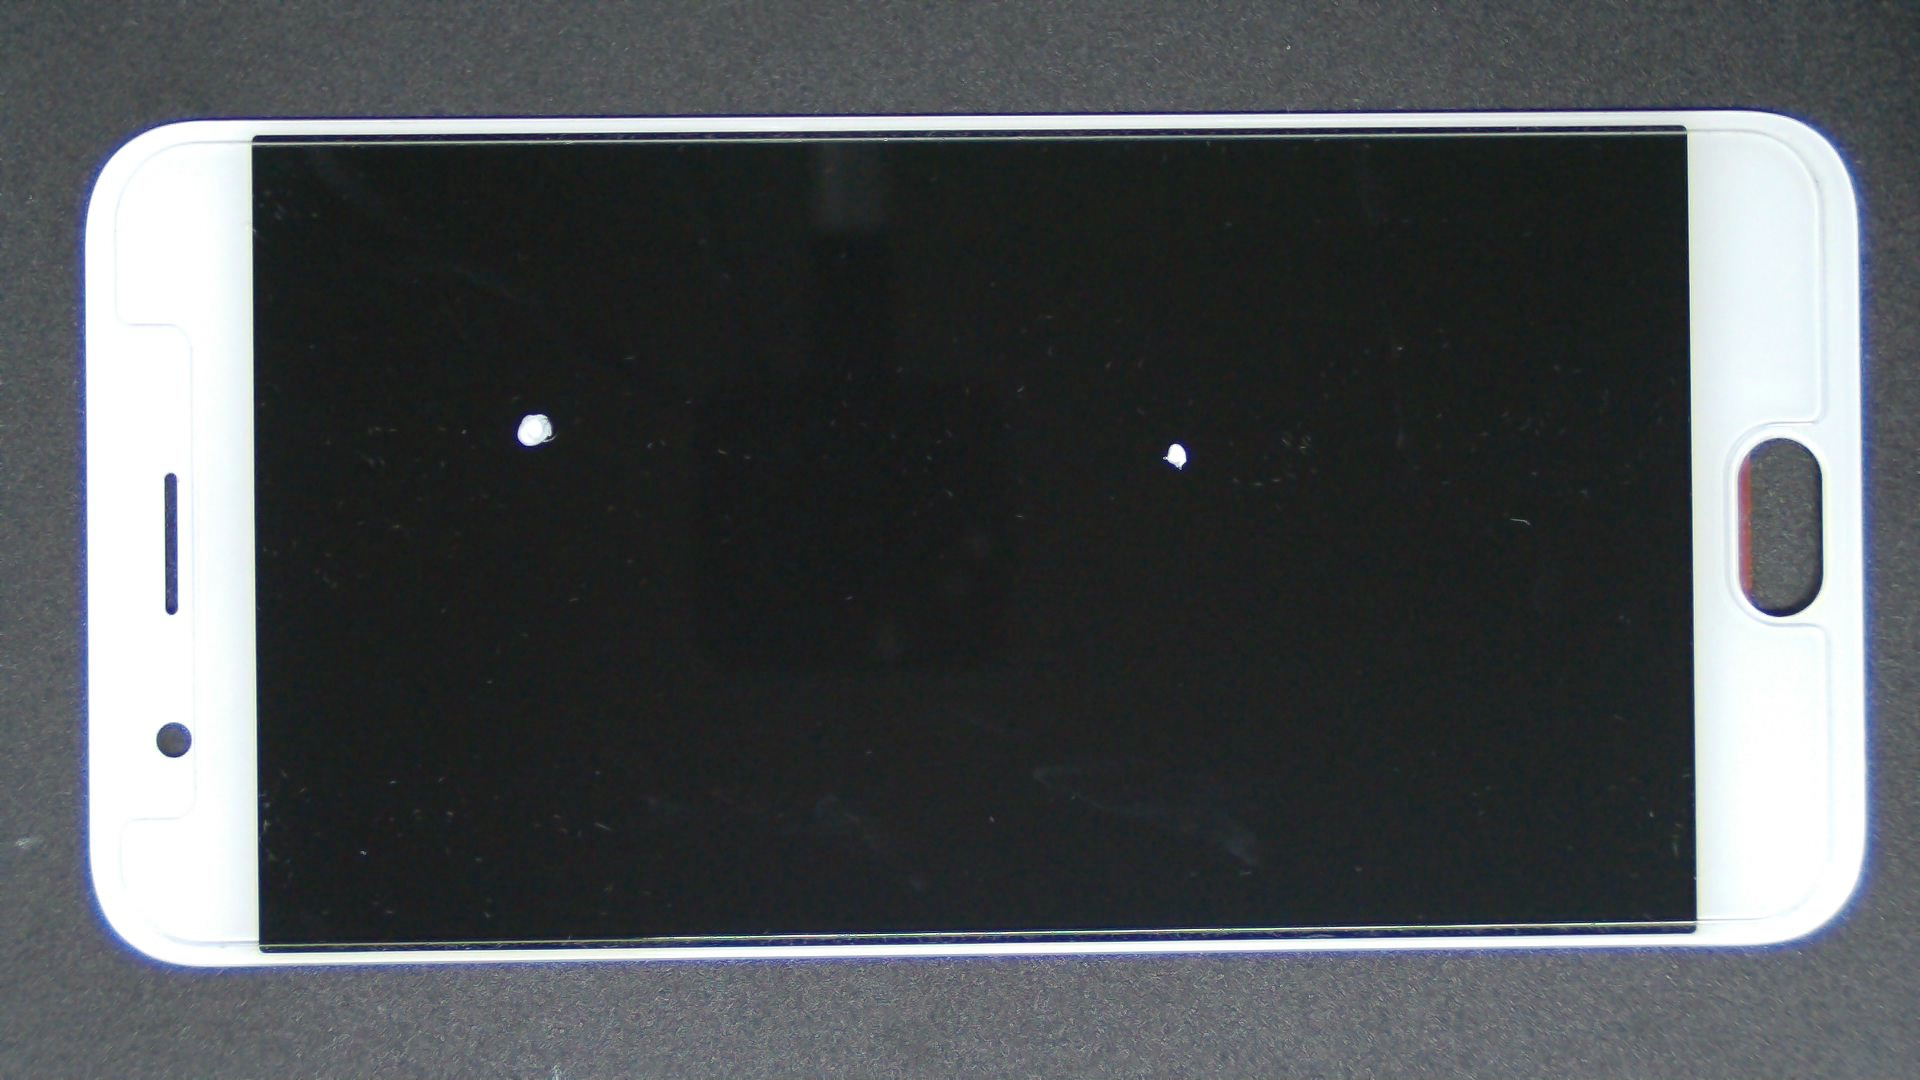oil: (588, 220, 1762, 663), (265, 206, 793, 620)
